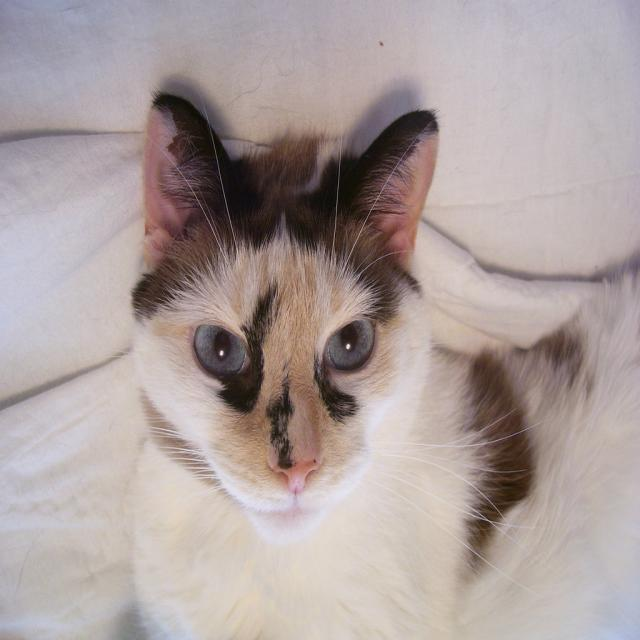left eye: (323, 314, 377, 372)
